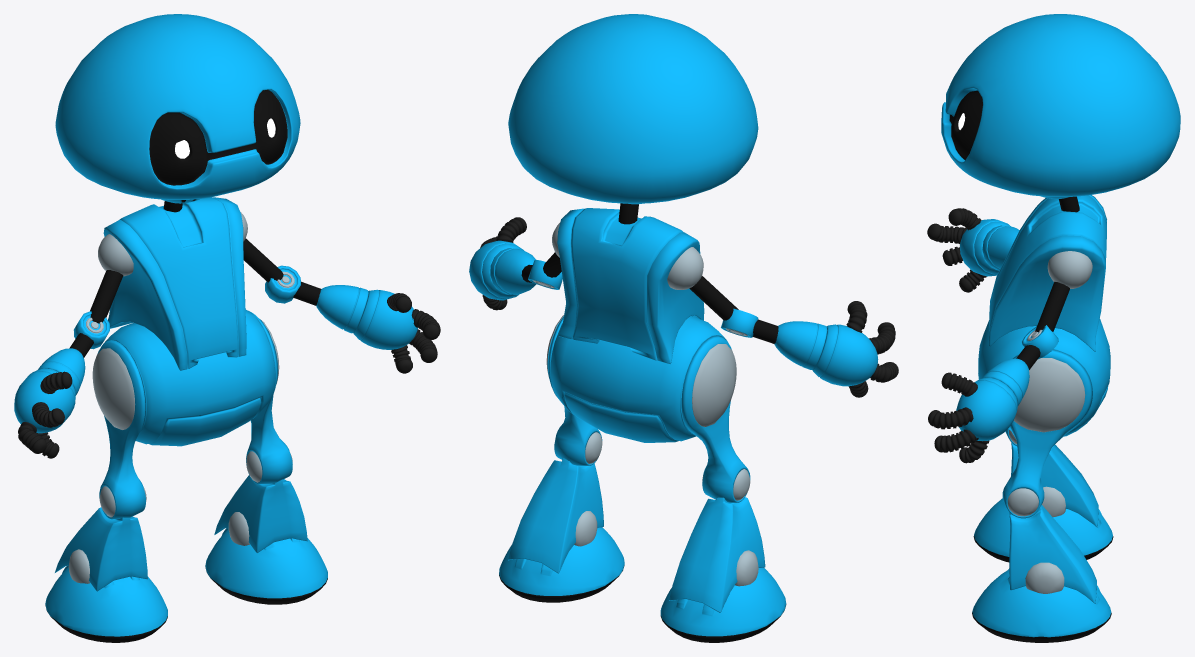
The model's file is Robot-GLB.glb.
3 views of the same model, side by side, from view 1: azimuth 30°, elevation 25°; view 2: azimuth 150°, elevation 25°; view 3: azimuth 270°, elevation 25° (orthographic). The views are drawn at different scales.
Visible parts, largest first — view 1: Tete.001, Buste.001, Hanche.001, pied.002, pied.003, Mollet.003, Mollet.002, Doigts.001, cuisse.003, main.002, cuisse.002, main.003 (+8 smaller); view 2: Tete.001, Buste.001, Hanche.001, Mollet.003, Mollet.002, pied.002, pied.003, cuisse.003, main.003, Doigts.001, poignet.003, cuisse.002 (+7 smaller); view 3: Tete.001, Buste.001, Hanche.001, pied.002, Mollet.002, Doigts.001, cuisse.002, pied.003, main.002, Mollet.003, main.003, epaule.002 (+7 smaller).
Part boxes in pixels (bbox=[...]): Tete.001: bbox=[55, 14, 300, 199]; Buste.001: bbox=[103, 197, 246, 370]; Hanche.001: bbox=[92, 309, 279, 446]; pied.002: bbox=[205, 528, 327, 604]; pied.003: bbox=[45, 565, 167, 642]; Mollet.003: bbox=[55, 507, 147, 591]; Mollet.002: bbox=[214, 475, 307, 552]; Doigts.001: bbox=[18, 293, 440, 458]; cuisse.003: bbox=[97, 340, 145, 519]; main.002: bbox=[353, 289, 417, 349]; cuisse.002: bbox=[246, 310, 292, 483]; main.003: bbox=[14, 368, 75, 433]; Tete.001: bbox=[508, 14, 758, 203]; Buste.001: bbox=[557, 208, 704, 363]; Hanche.001: bbox=[546, 315, 736, 442]; Mollet.003: bbox=[669, 497, 765, 612]; Mollet.002: bbox=[508, 458, 603, 573]; pied.002: bbox=[499, 527, 624, 602]; pied.003: bbox=[660, 567, 786, 642]; cuisse.003: bbox=[681, 335, 750, 502]; main.003: bbox=[812, 324, 878, 386]; Doigts.001: bbox=[480, 217, 898, 397]; poignet.003: bbox=[774, 321, 827, 369]; cuisse.002: bbox=[548, 316, 602, 465]; Tete.001: bbox=[941, 14, 1180, 196]; Buste.001: bbox=[989, 195, 1106, 351]; Hanche.001: bbox=[978, 318, 1110, 436]; pied.002: bbox=[972, 568, 1111, 642]; Mollet.002: bbox=[1009, 505, 1096, 603]; Doigts.001: bbox=[927, 208, 989, 463]; cuisse.002: bbox=[1002, 349, 1092, 518]; pied.003: bbox=[973, 498, 1113, 562]; main.002: bbox=[956, 377, 1017, 441]; Mollet.003: bbox=[1011, 442, 1098, 527]; main.003: bbox=[960, 219, 1010, 276]; epaule.002: bbox=[1047, 251, 1092, 288].
Bounding box in the file's own units: 0.422 × 0.5607 × 0.2303.
